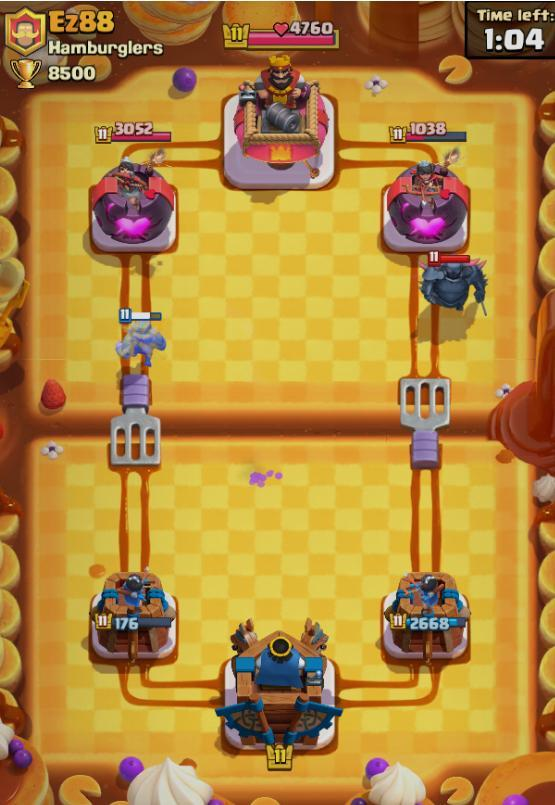EBigPekka: (420, 253, 486, 312)
EKingTower: (224, 55, 334, 189)
EnemyPrincessTower: (90, 150, 176, 253), (382, 161, 469, 253)
OBrawler: (116, 308, 166, 367)
OwnKingTower: (216, 619, 341, 751)
OwnPrincessTower: (89, 569, 176, 662), (382, 572, 469, 662)
